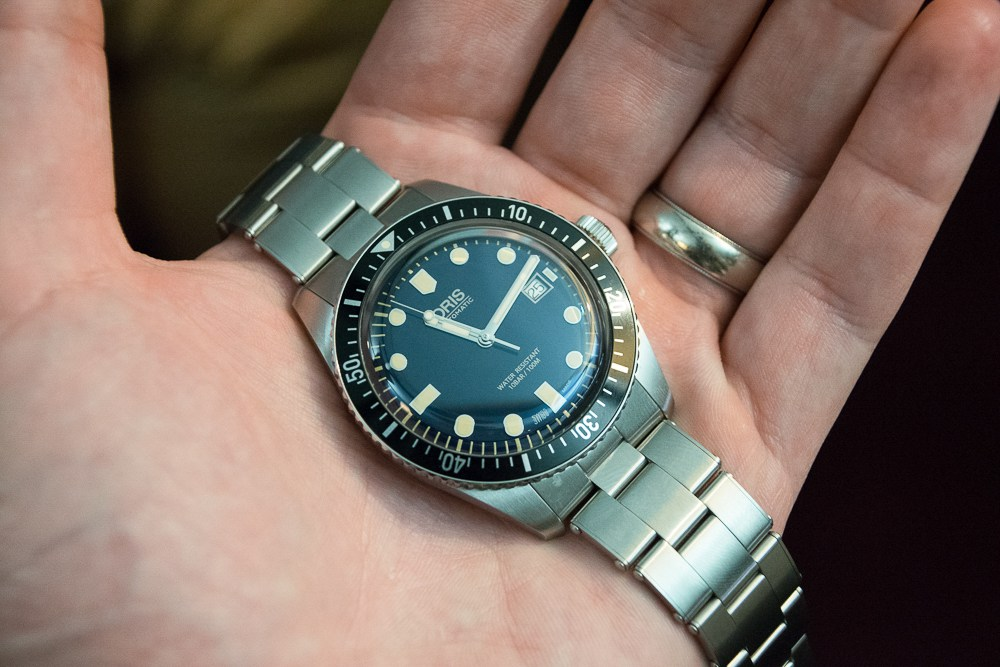clock: (362, 214, 617, 455)
